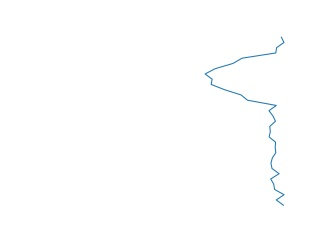distalBar: (198, 35, 289, 207)
